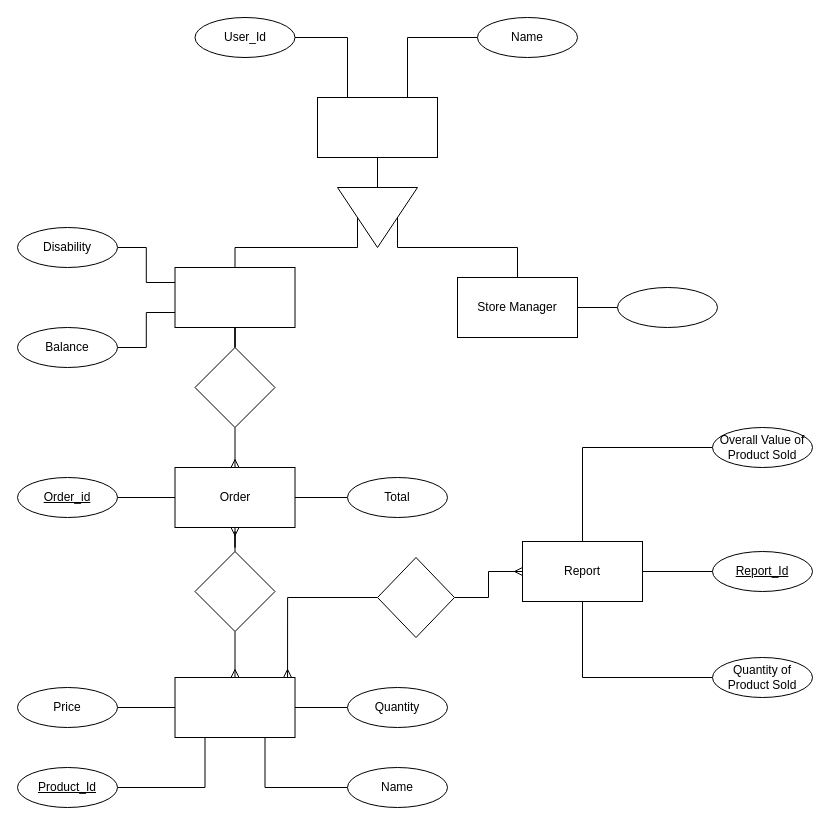
Image size: 830x825. Some labels were removed from this diagram. The shapes that lost their labels are listed below. From the top down, each one's box as (x1, y1, x2, y2) in pixels, then its label:
(316, 96, 438, 158): User
(336, 186, 418, 248): IS A
(174, 266, 295, 328): Customer
(616, 286, 718, 328): Branch Number
(194, 346, 275, 428): Places
(194, 550, 275, 632): Contains
(376, 556, 454, 638): Has
(174, 676, 295, 738): Product
